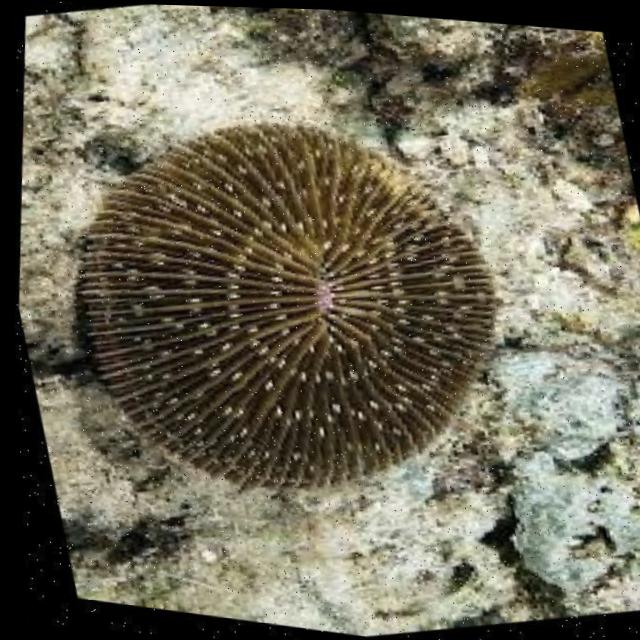Healthy Coral: (4, 48, 576, 573)
